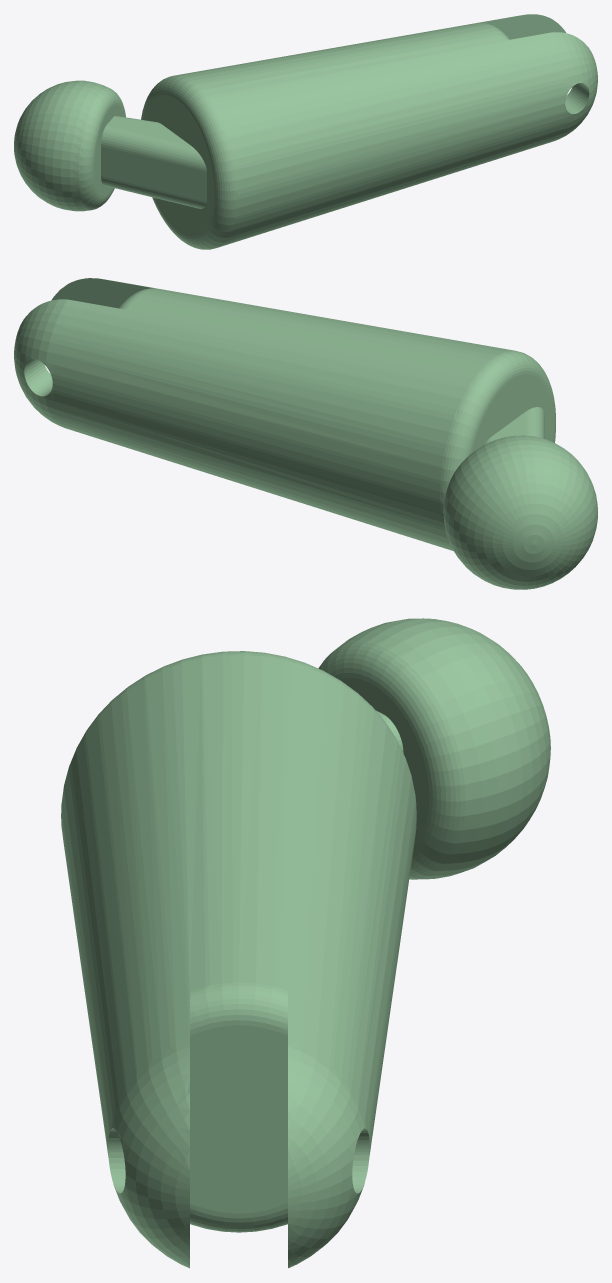
The model's file is case-04_lib00004.glb.
The picture shows the model from 3 angles, top to bottom: view 1: azimuth 30°, elevation 25°; view 2: azimuth 150°, elevation 25°; view 3: azimuth 270°, elevation 25°; orthographic projection. The views are drawn at different scales.
Visible parts, largest first — view 1: lib00004; view 2: lib00004; view 3: lib00004.
Part boxes in pixels (x1,y1,x2,y2): lib00004: (14,14,597,249); lib00004: (14,278,597,589); lib00004: (61,618,550,1268).
Size of the model in its own units: 78 by 23.23 by 32.
